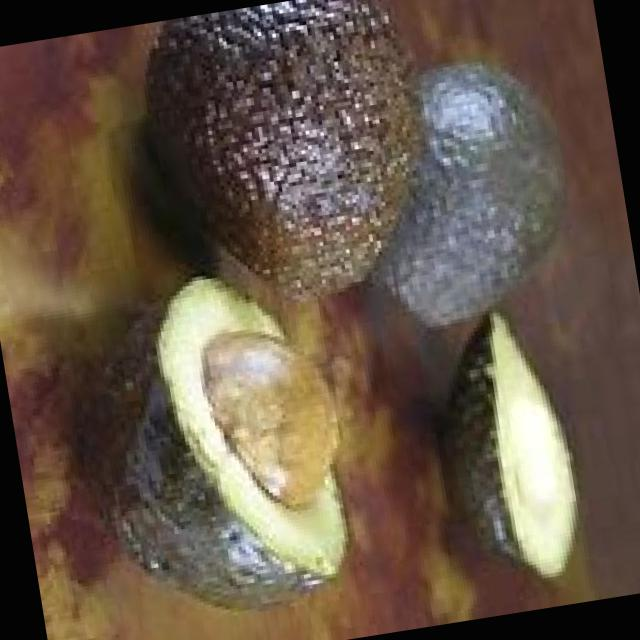avocado: (58, 257, 366, 639), (145, 0, 446, 328), (352, 50, 580, 338)
